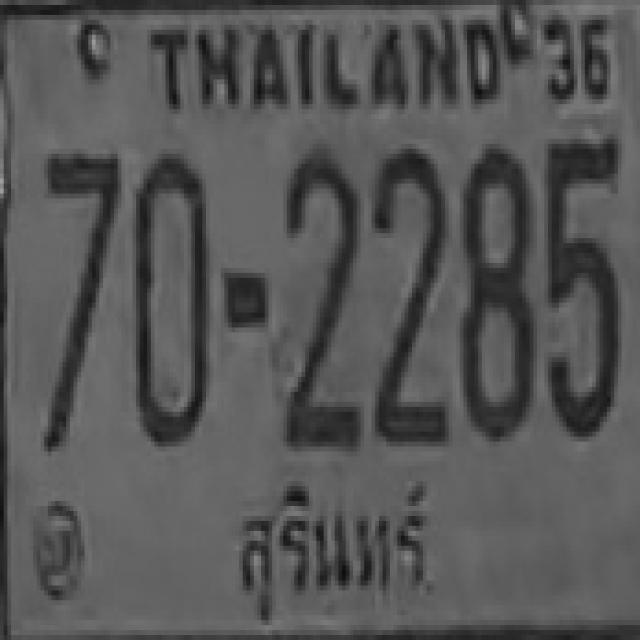0: (133, 149, 210, 441)
2: (368, 146, 445, 410), (280, 146, 356, 410)
5: (544, 137, 618, 434)
7: (41, 149, 118, 446), (44, 151, 118, 370), (44, 149, 118, 332)
8: (456, 144, 530, 436)
Surin: (222, 479, 443, 624)
